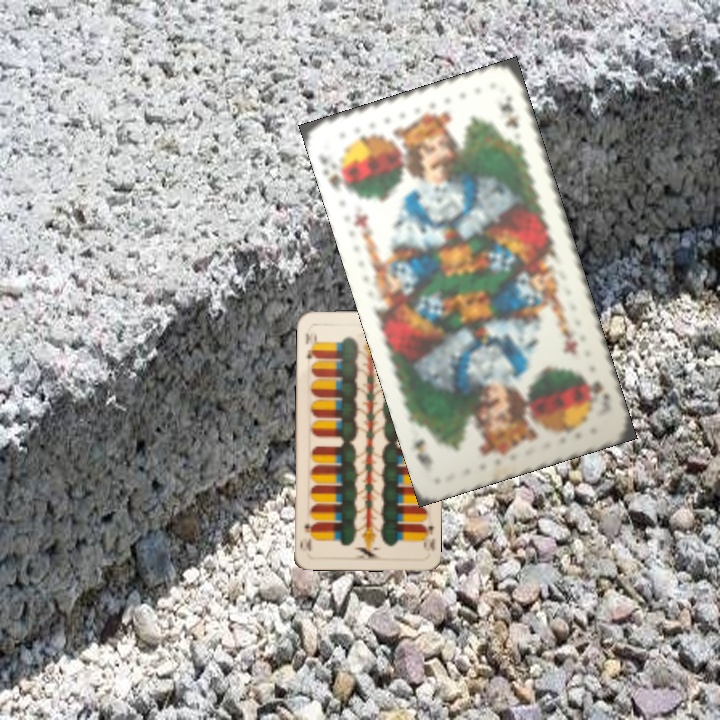E10: (417, 520, 437, 554), (301, 329, 319, 362)
SK: (320, 165, 355, 196), (580, 370, 612, 402)
